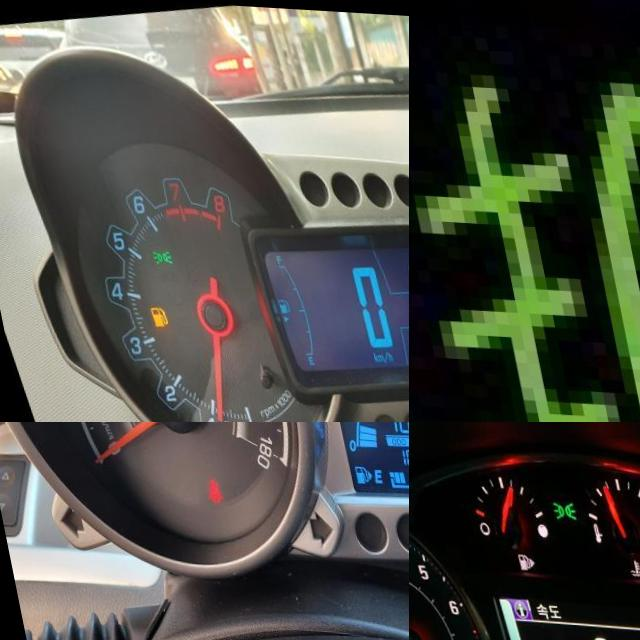FrontFogLight: (409, 53, 640, 422)
Low fuel level: (134, 302, 156, 326)
SideLamp: (138, 243, 164, 265), (547, 498, 572, 517)
